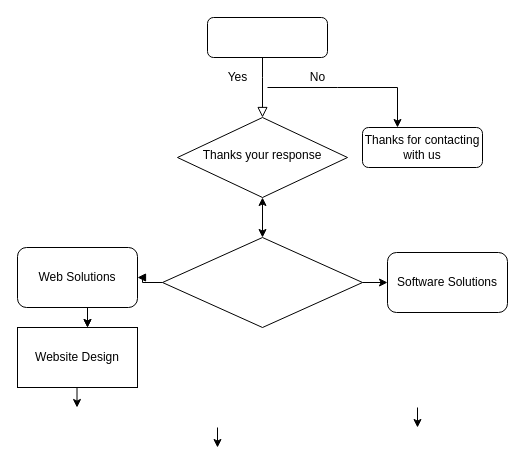
This 525x473 diagram has some shape labels left out. Each missing label, with the centre of its shape:
What are you looking for?: point 262,282
Would you like to chat with me?: point 267,37
